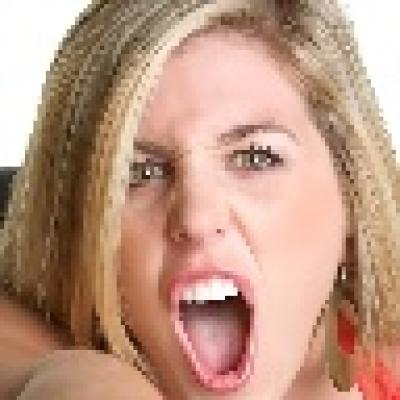angry: (84, 33, 338, 400)
